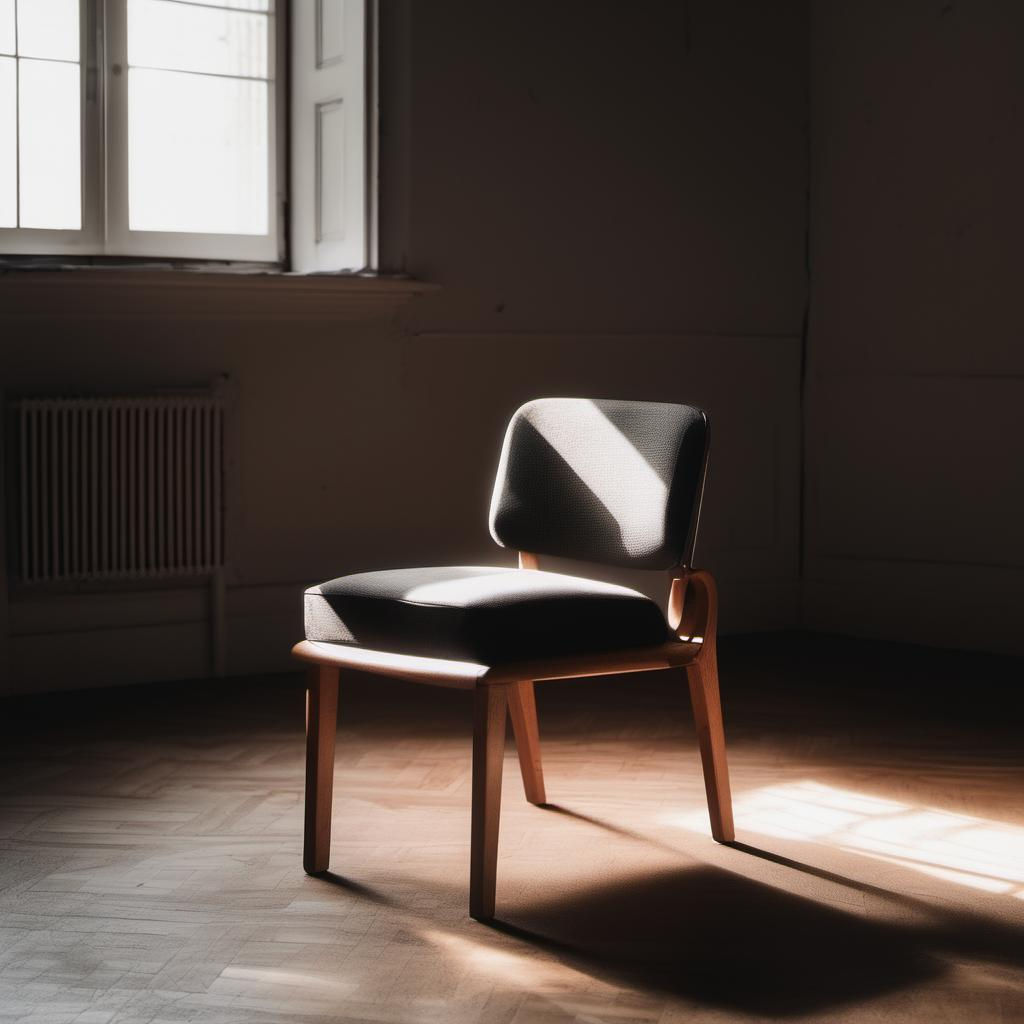chair_new: (284, 390, 736, 915)
